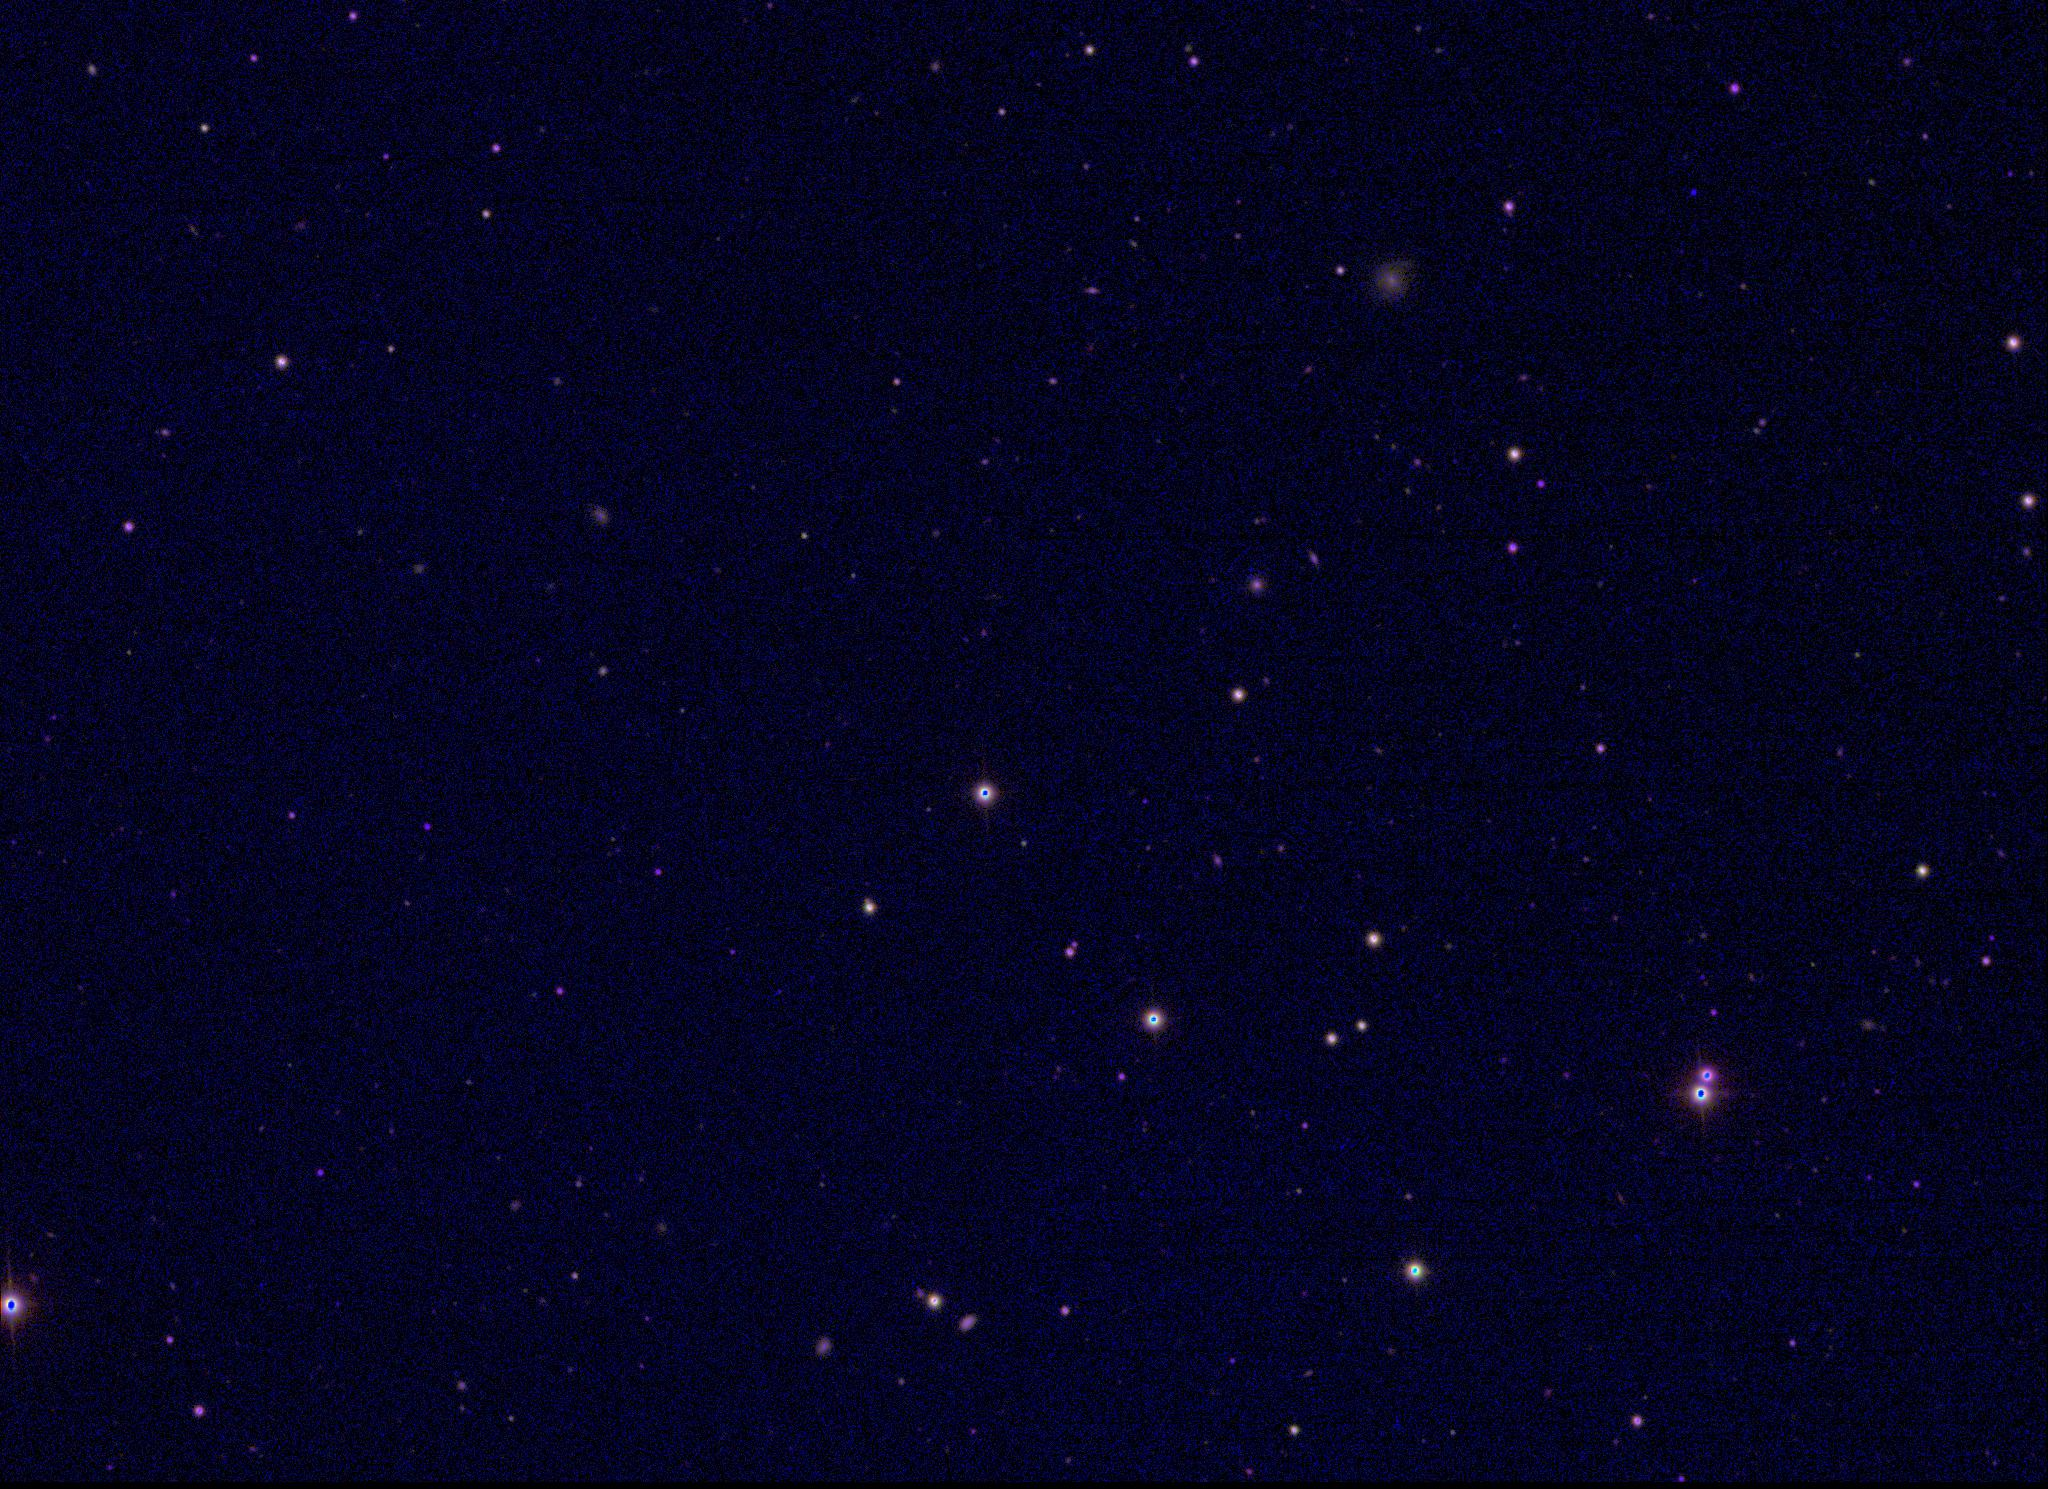L: (1685, 188, 1700, 200)
